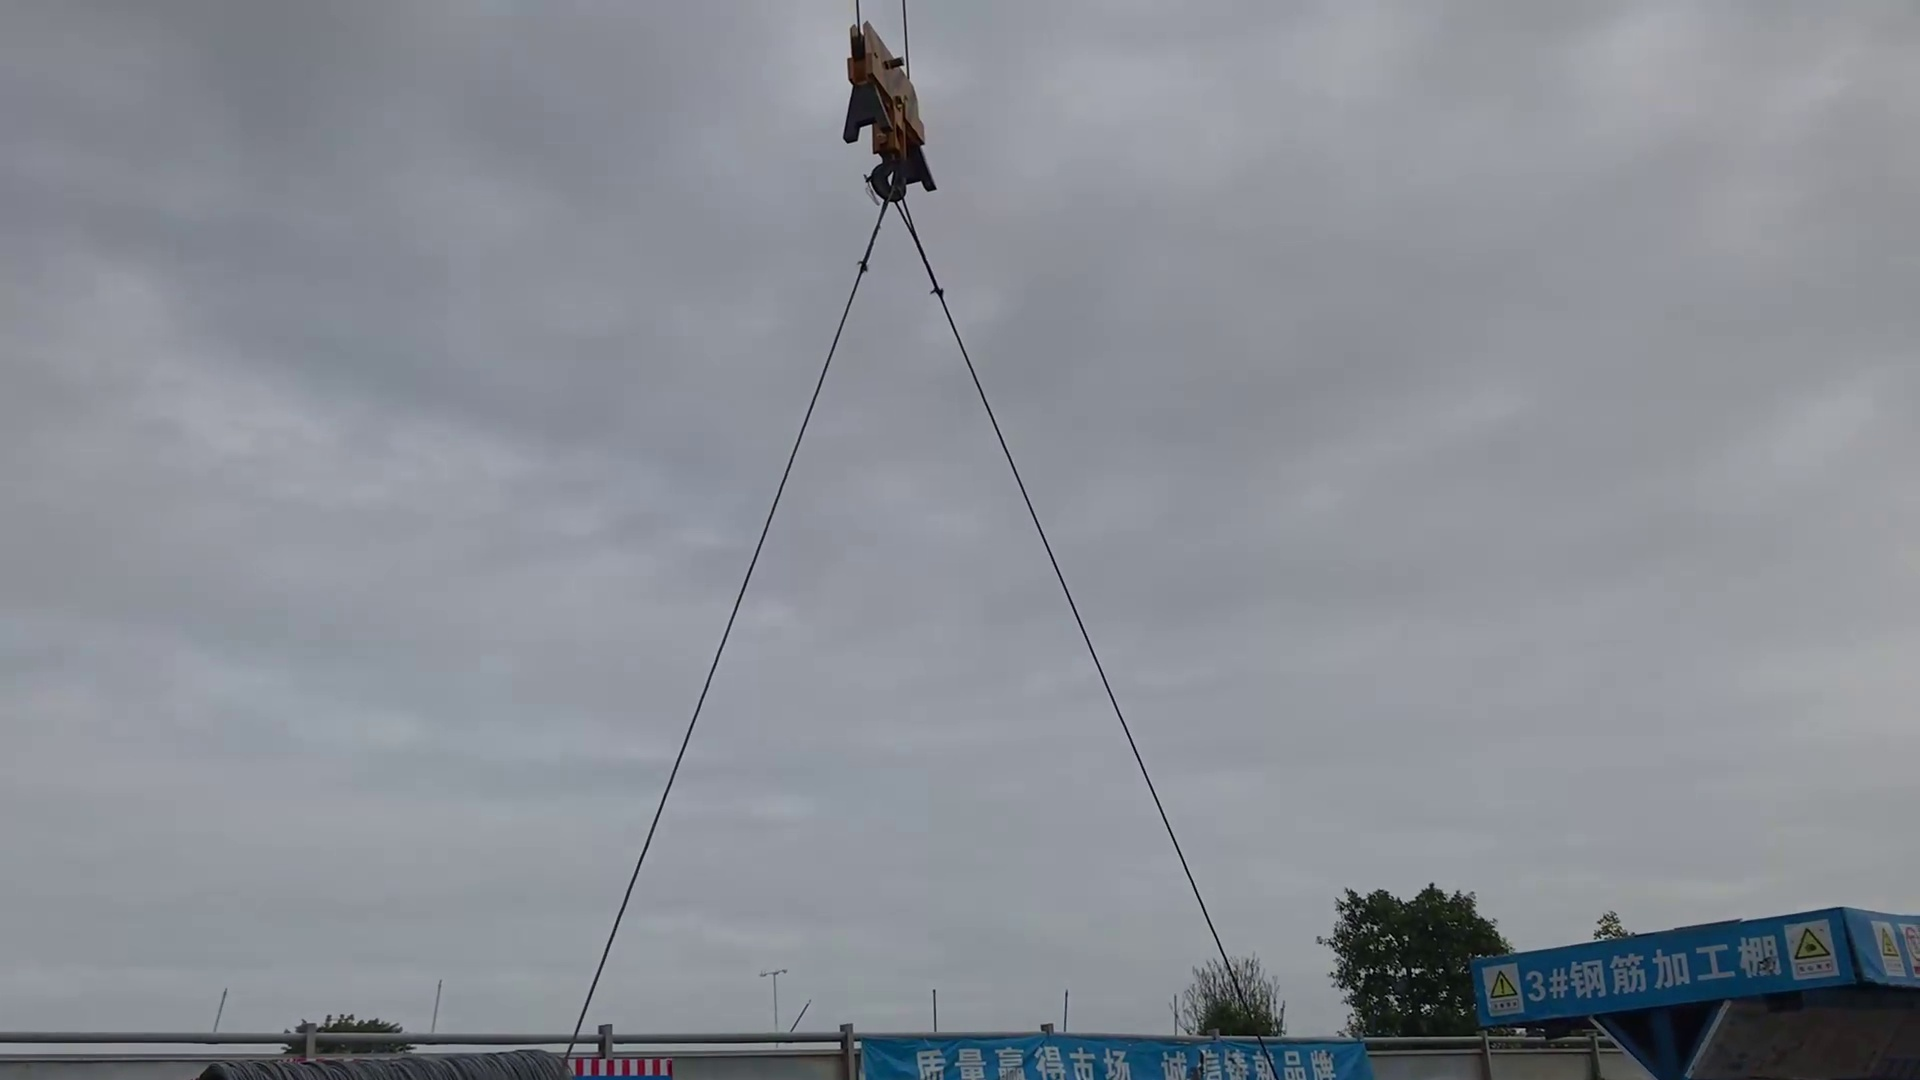hook: (832, 15, 947, 218)
slogan: (860, 1033, 1367, 1080)
